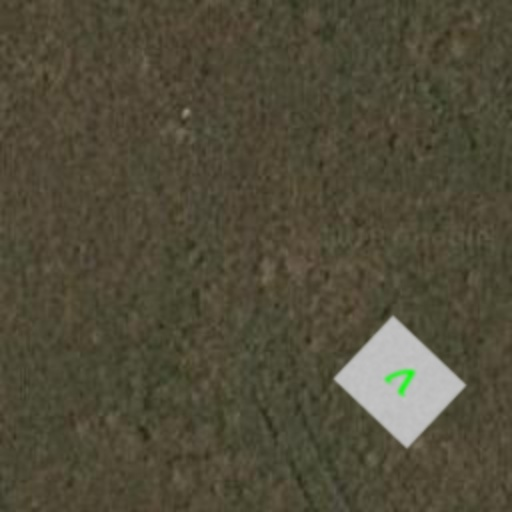rectangle: (328, 310, 472, 454)
